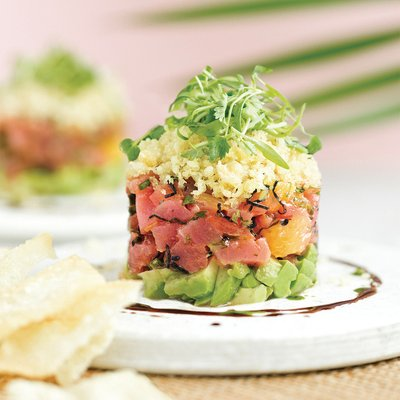soup: (118, 66, 326, 309)
